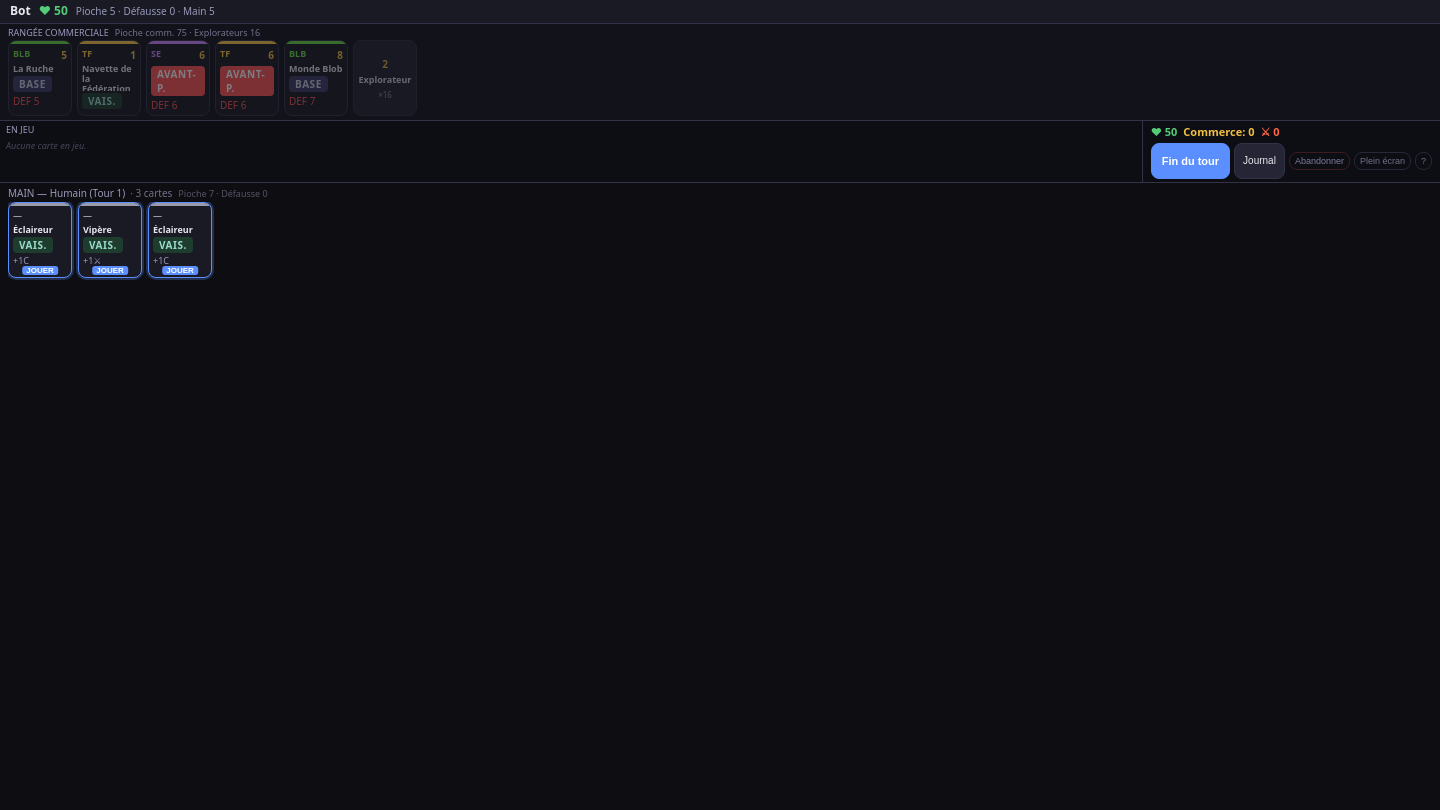
Test: PATCH 0033 — QA visuelle mobile post-V0 › 4. tap carte ouvre modale avec bouton Fermer
Click the element showing "BLB 5 La Ruche Base DEF 5 +3⚔ Allié•": x=40, y=78 [8, 40, 72, 116]
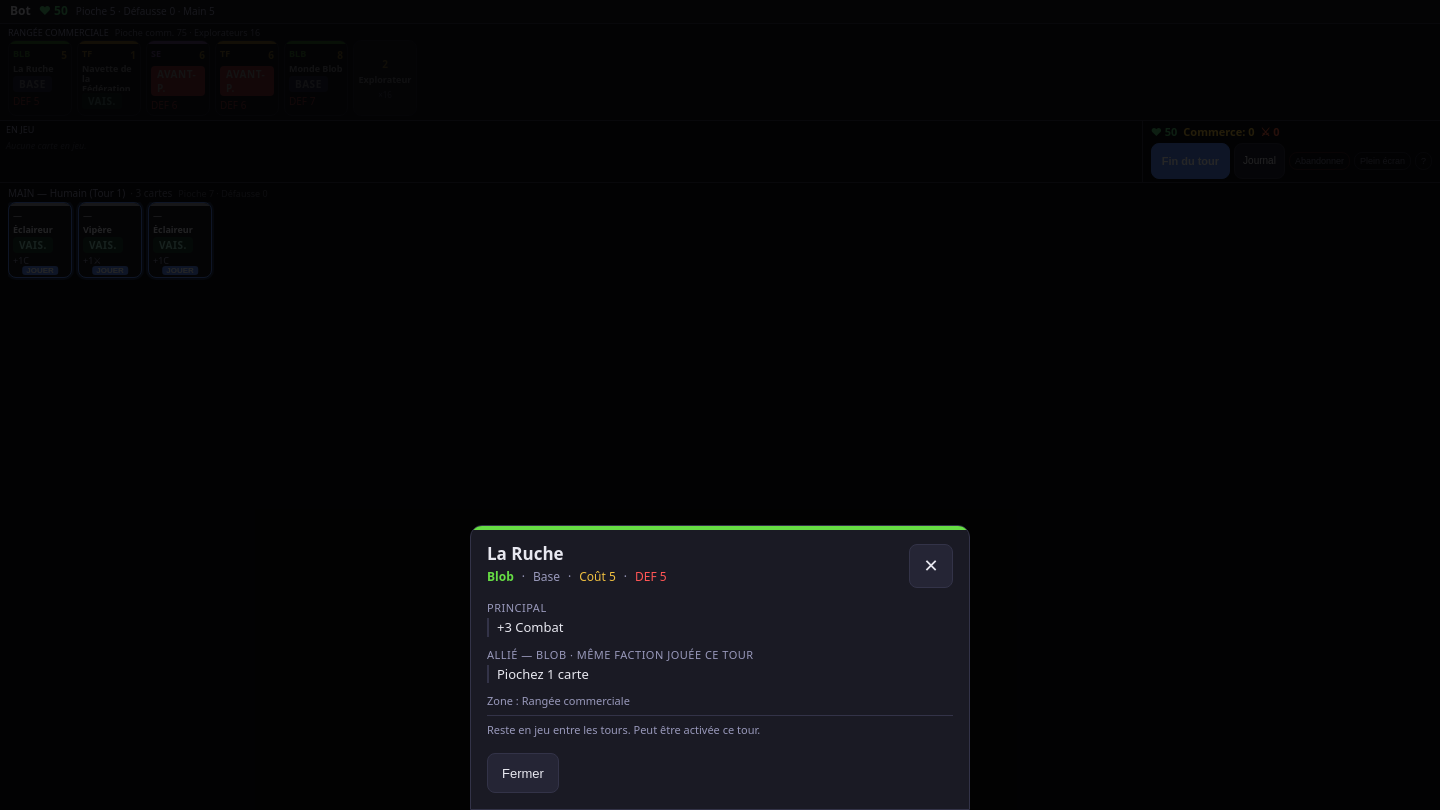
Check: the button "Fermer" is shown, box [487, 753, 559, 793]
